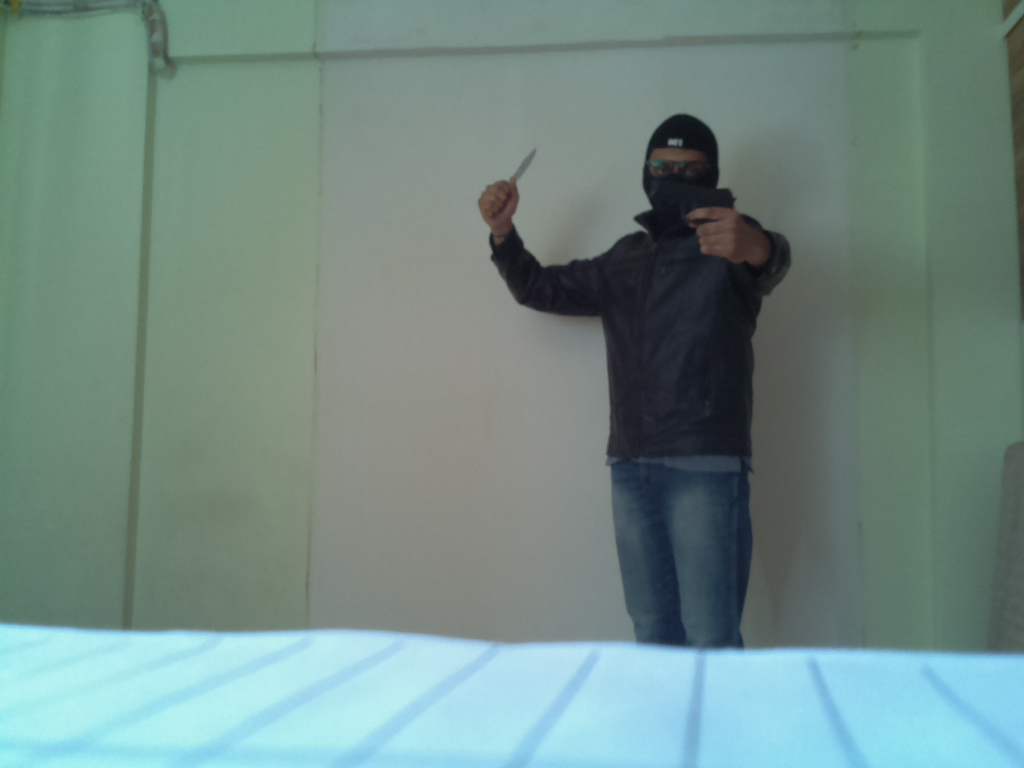knife: (496, 148, 542, 199)
